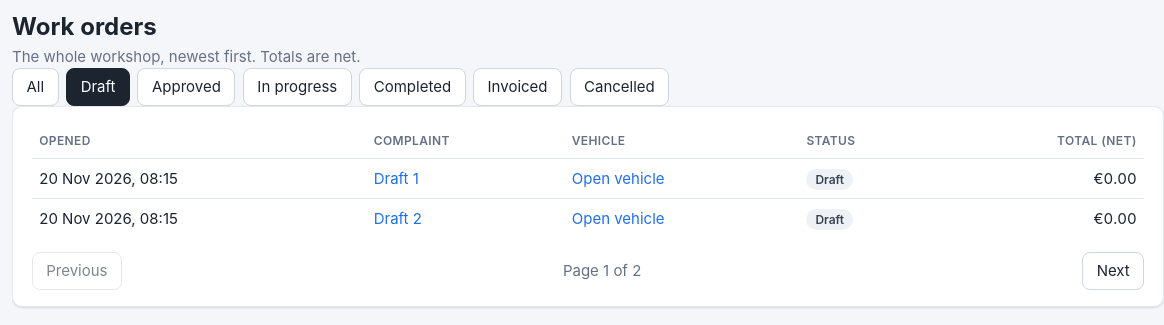
Test: WorkOrdersPage › pages through the list and keeps the status filter
Check: the text "Page 1 of 2" is shown, box 563,260 -> 641,282
Click the button "Next".
click(1113, 271)  # box 1082,252 -> 1144,290
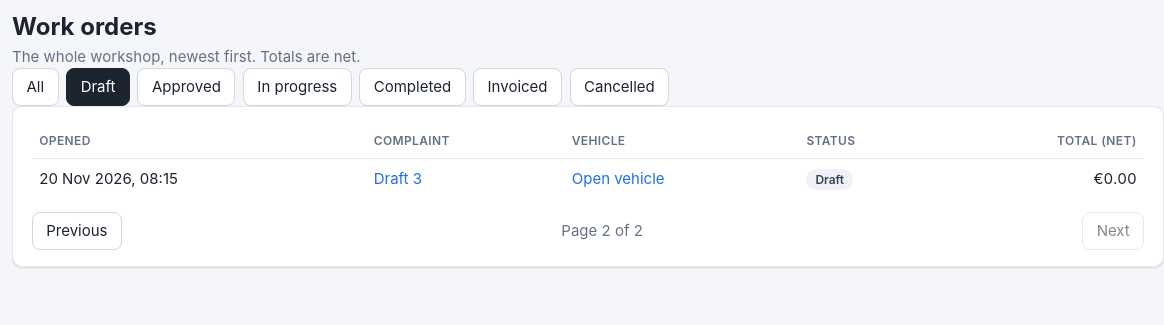
Check: the link "Draft 3" is shown, box 374,168 -> 422,188
Check: the text "Page 2 of 2" is shown, box 561,220 -> 643,242
Check: the button "Next" is disabled, box 1082,212 -> 1144,250
